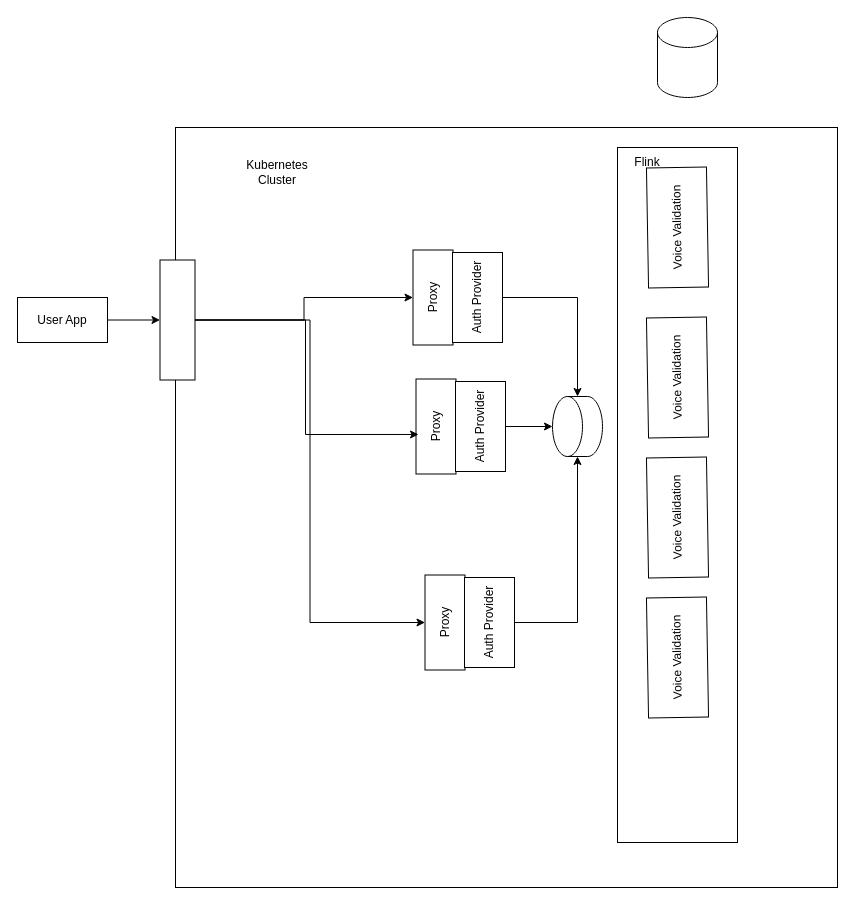
The diagram is 855 pixels wide and 905 high, and some of its shapes have lost their labels. The shapes that lost their labels are listed below. From the top down, each one's centre as x and y in pixels, then its label:
point 687,57: User DB
point 177,319: Ingress
point 577,426: Kafka
